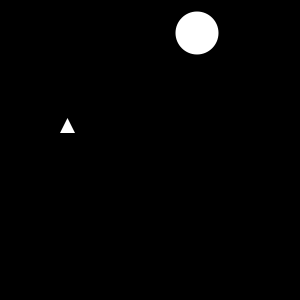rectangle: (176, 12, 218, 54)
triangle: (60, 118, 75, 133)
